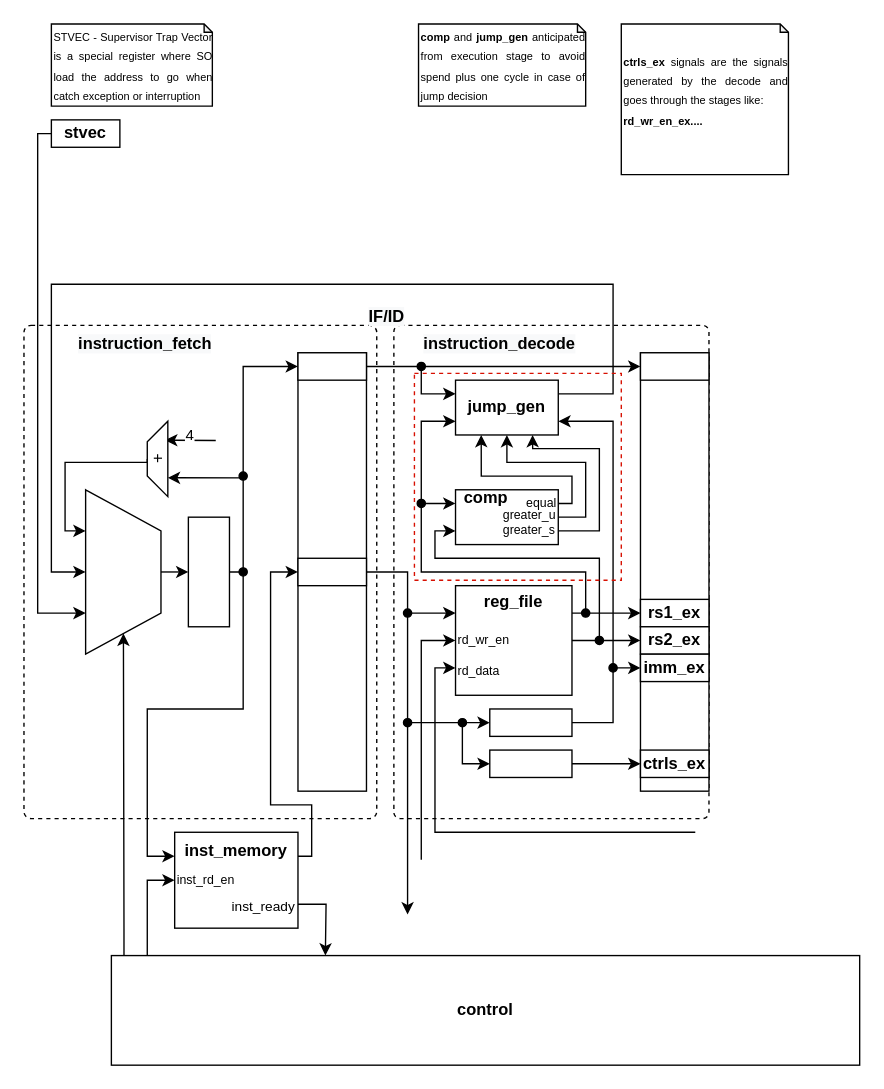
Some shapes in this 884 by 1089 pixel diagram are drawn without their labels. Here are the shapes that lost their labels. From the top down, the centre of each, then its label:
the point at 331,365: pc_id
the point at 674,365: pc_ex
the point at 122,571: pc_mux
the point at 208,571: pc
the point at 331,571: inst_id
the point at 530,722: imm_gen
the point at 530,763: decode
